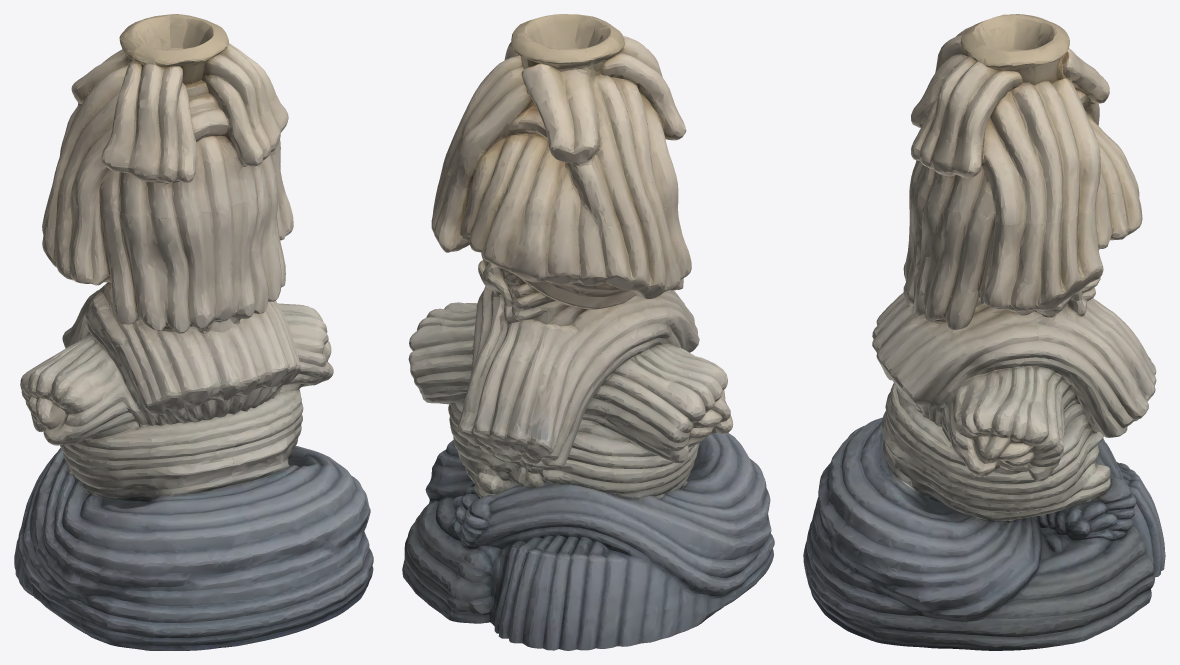
Rendered from 05_7_js_blob_candle4.glb.
3 views of the same model, side by side, from view 1: azimuth 30°, elevation 25°; view 2: azimuth 150°, elevation 25°; view 3: azimuth 270°, elevation 25° (orthographic). The views are drawn at different scales.
Visible parts, largest first — view 1: tripo_node_c4b6c598-1dfe-4f7f-97d7-fb400cd33945; view 2: tripo_node_c4b6c598-1dfe-4f7f-97d7-fb400cd33945; view 3: tripo_node_c4b6c598-1dfe-4f7f-97d7-fb400cd33945.
Part boxes in pixels (x1=…): tripo_node_c4b6c598-1dfe-4f7f-97d7-fb400cd33945: x1=14, y1=14, x2=373, y2=650; tripo_node_c4b6c598-1dfe-4f7f-97d7-fb400cd33945: x1=402, y1=14, x2=774, y2=650; tripo_node_c4b6c598-1dfe-4f7f-97d7-fb400cd33945: x1=803, y1=14, x2=1165, y2=650.
Size of the model in its own units: 0.1194 by 0.2 by 0.1203.
1 material, 1 textured.
